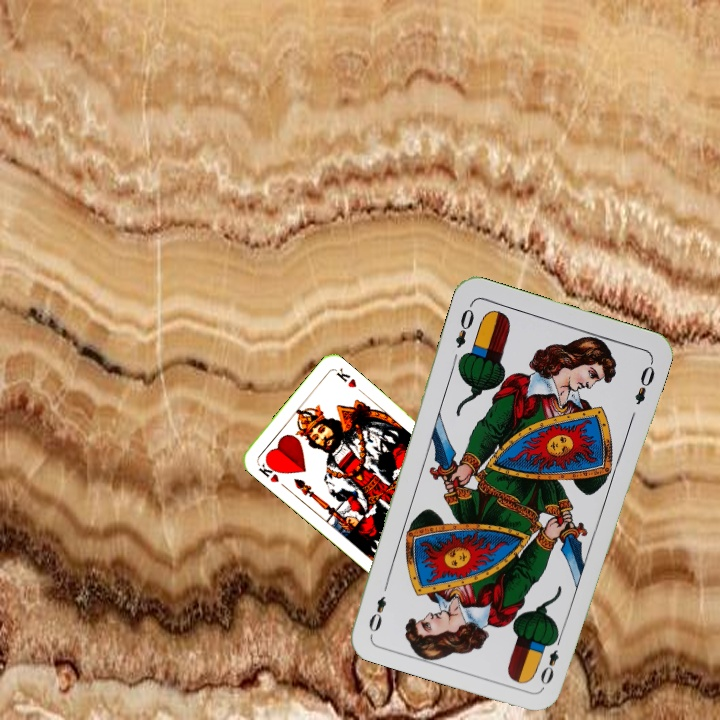EO: (536, 631, 565, 688), (451, 299, 477, 351)
HK: (253, 456, 283, 485)
